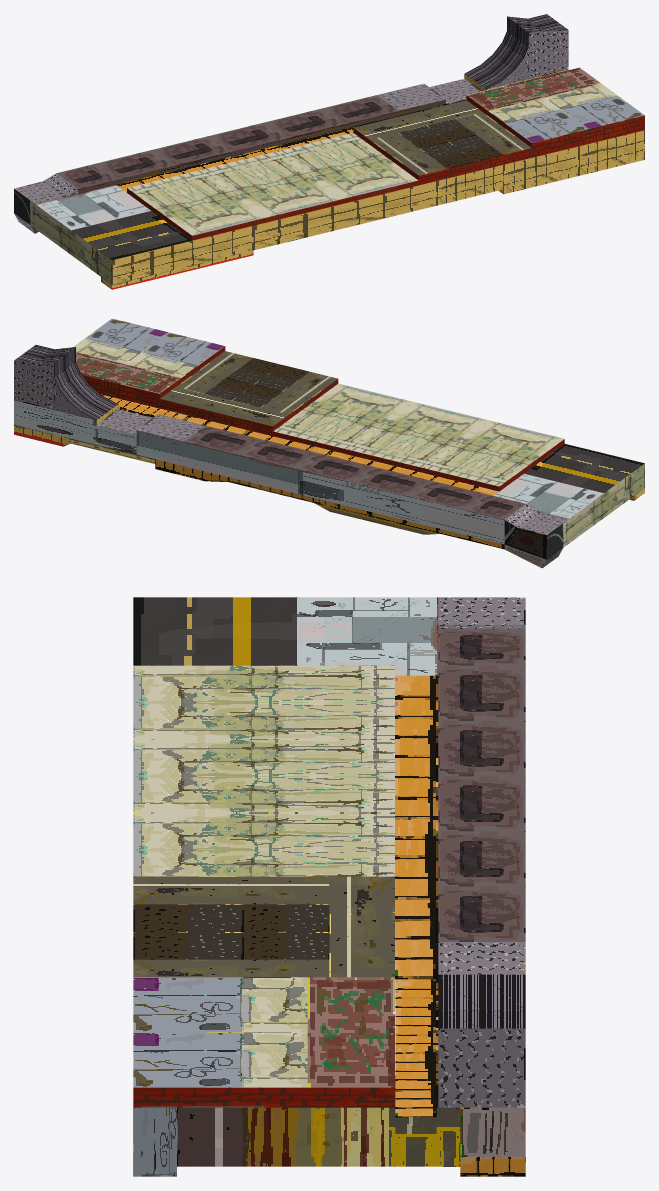
Rendered from SfRoadFlat.gltf.
3 renders of one model, top to bottom at view 1: azimuth 30°, elevation 25°; view 2: azimuth 150°, elevation 25°; view 3: azimuth 270°, elevation 25°, orthographic. The views are drawn at different scales.
Visible parts, largest first — view 1: SfRoadFlat; view 2: SfRoadFlat; view 3: SfRoadFlat.
Part boxes in pixels (<box>): SfRoadFlat: <box>14,14,644,289</box>; SfRoadFlat: <box>14,318,644,568</box>; SfRoadFlat: <box>133,597,525,1176</box>.
Size of the model in its own units: 56.5 by 8.75 by 18.
2 materials, 2 textured.
